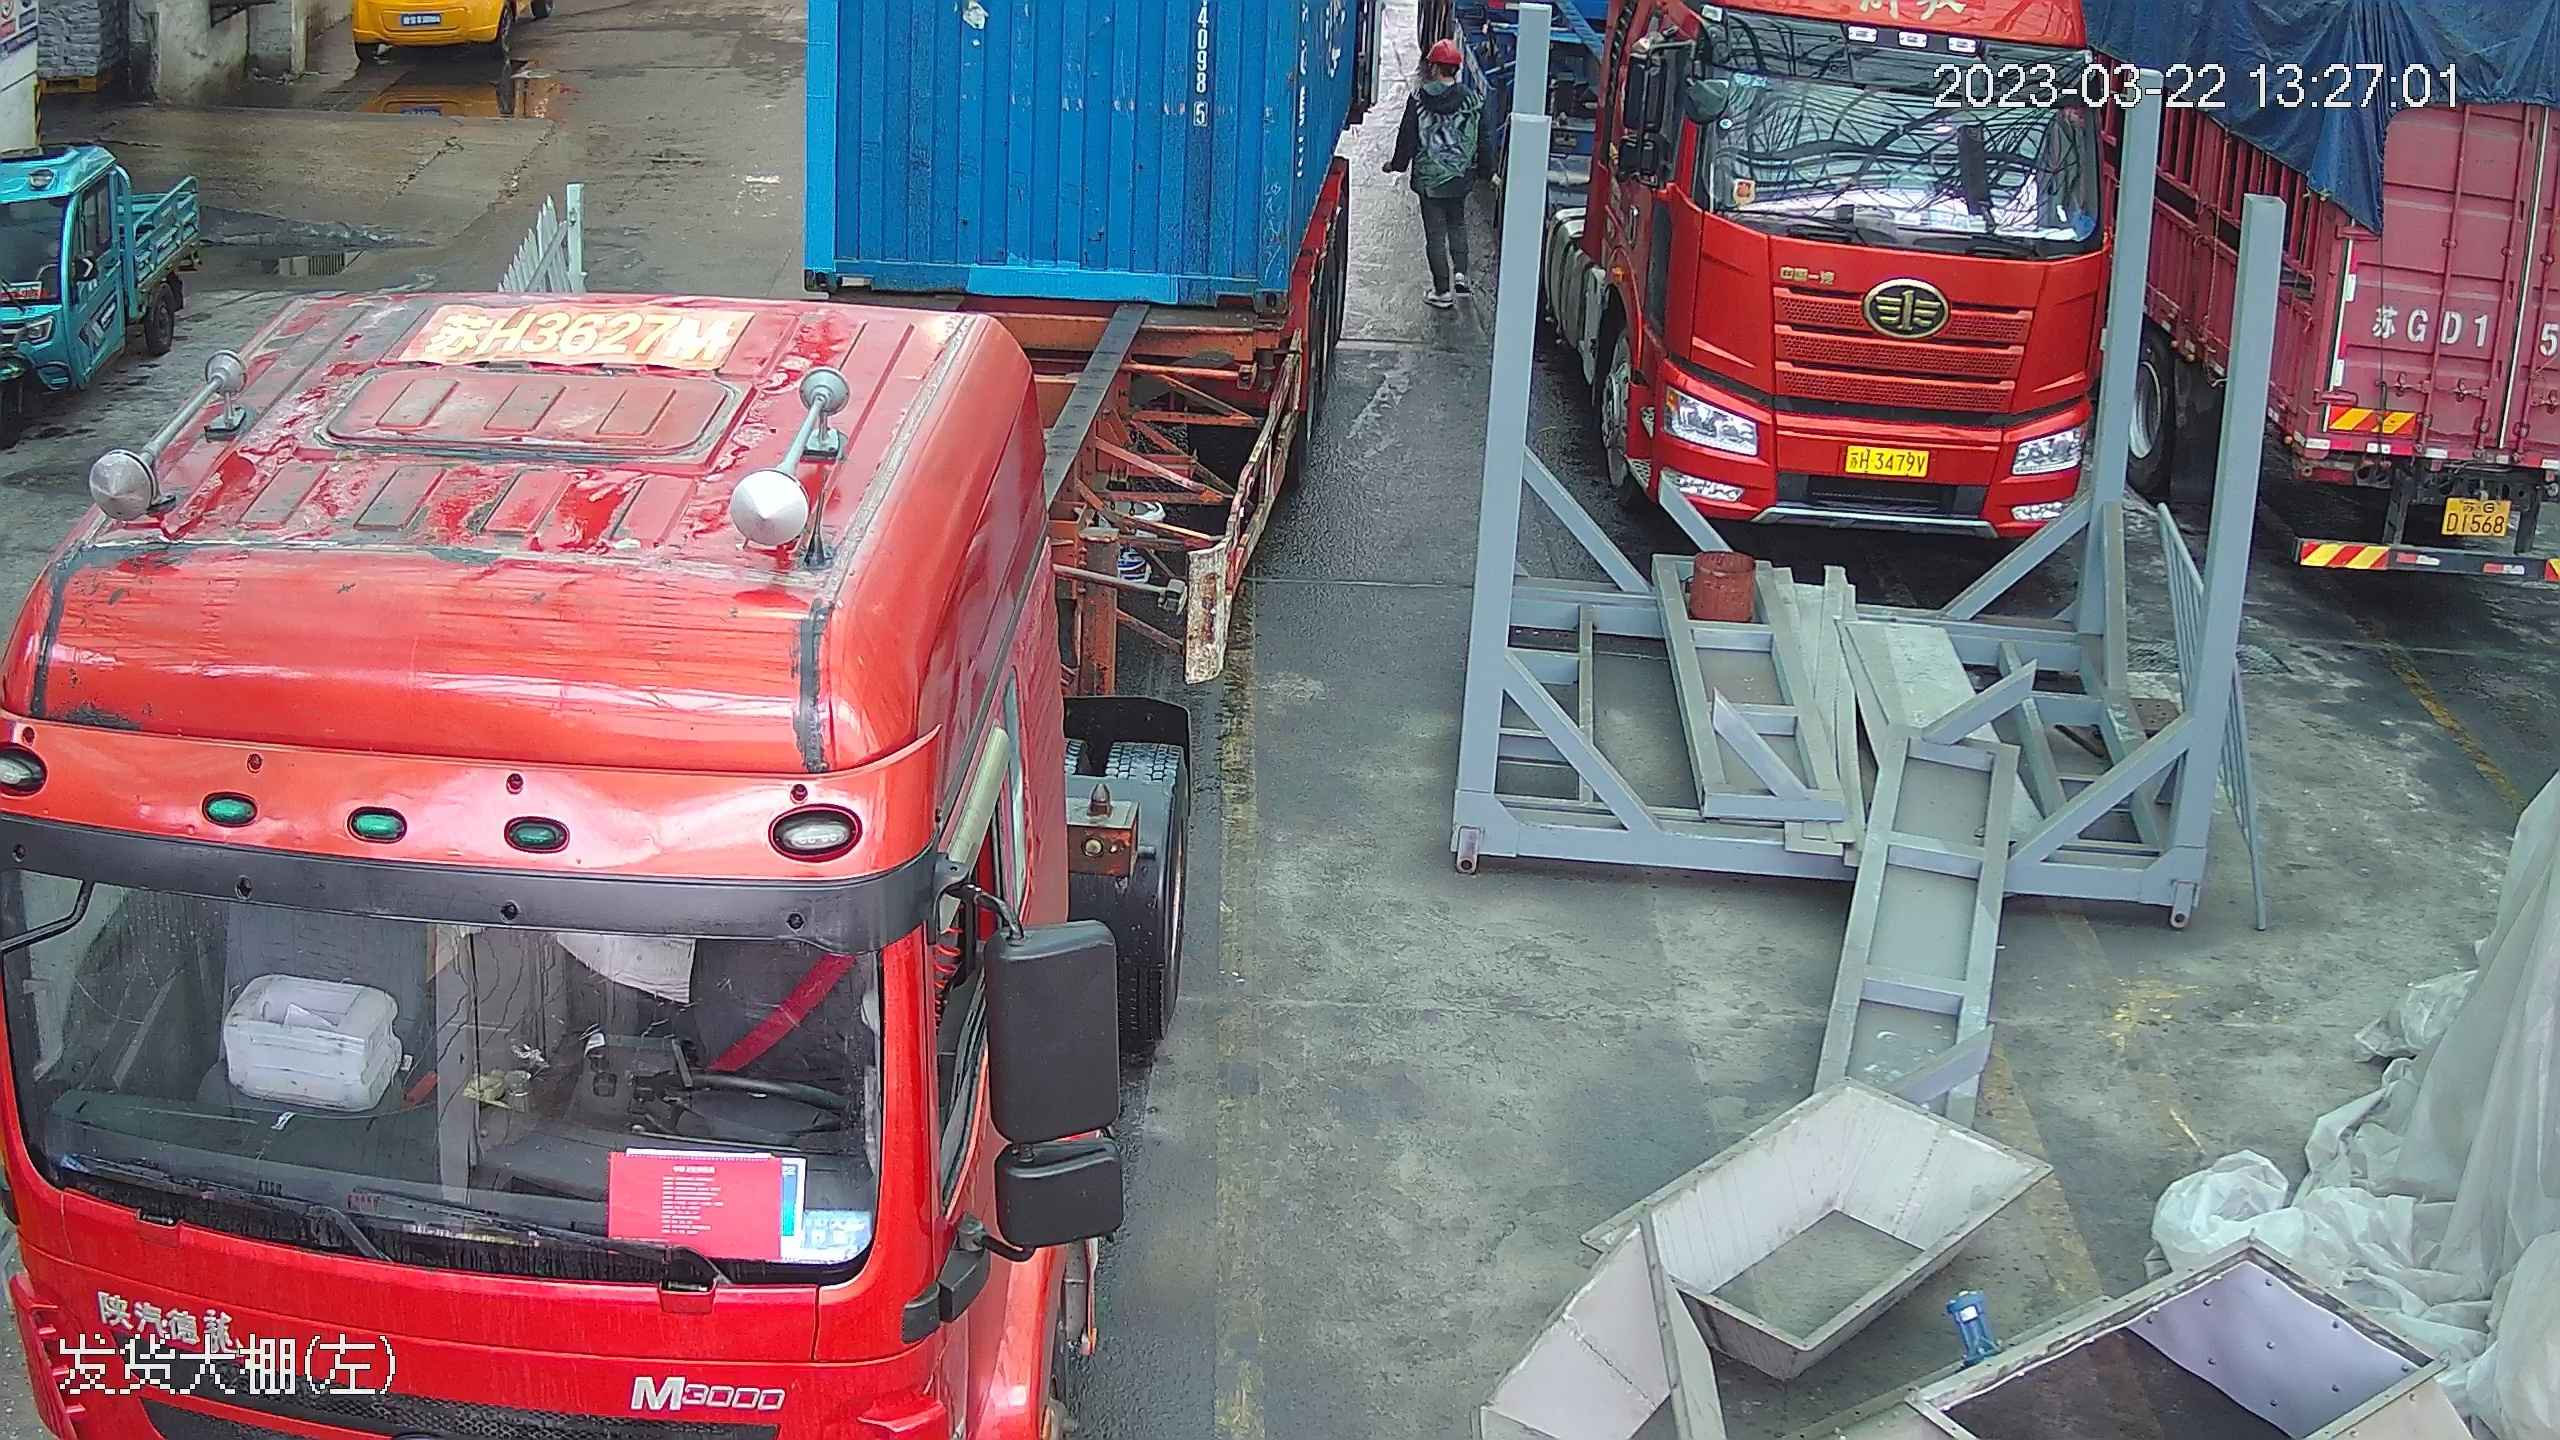head: (1409, 39, 1475, 118)
helmet: (1426, 38, 1464, 71)
people: (1395, 38, 1486, 311)
truck: (1, 188, 1256, 1440), (1574, 1, 2132, 553), (2149, 15, 2559, 591)
